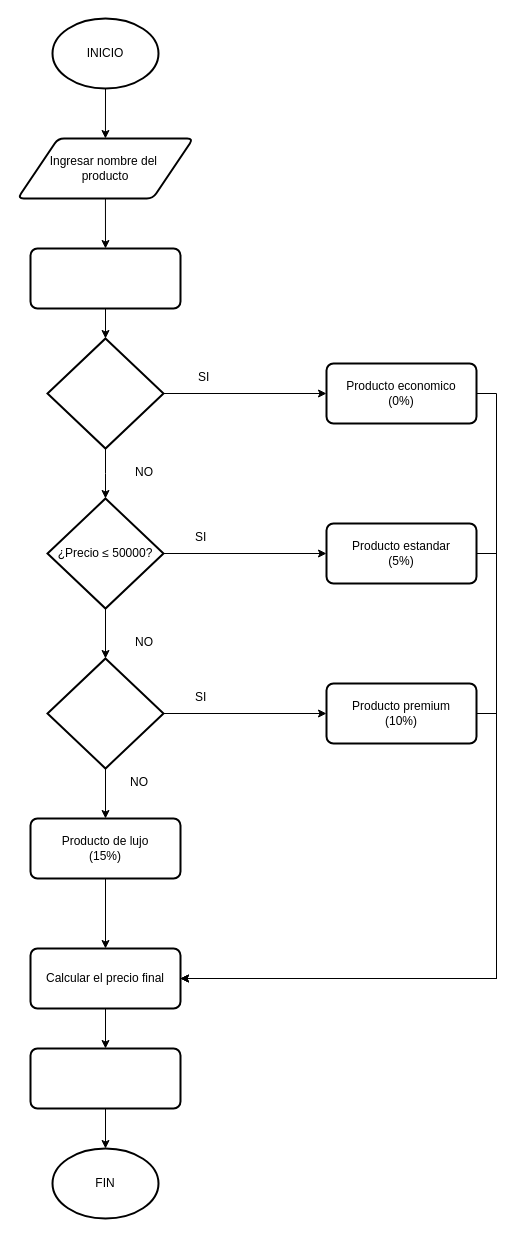
This 523x1236 diagram has some shape labels left out. Each missing label, with the box of its shape:
Ingresar precio del producto: (29, 247, 181, 309)
Mostrar resultados: (29, 1047, 181, 1109)
¿Precio ≤ 10000?: (46, 337, 164, 449)
¿Precio ≤ 200000?: (46, 657, 164, 769)
